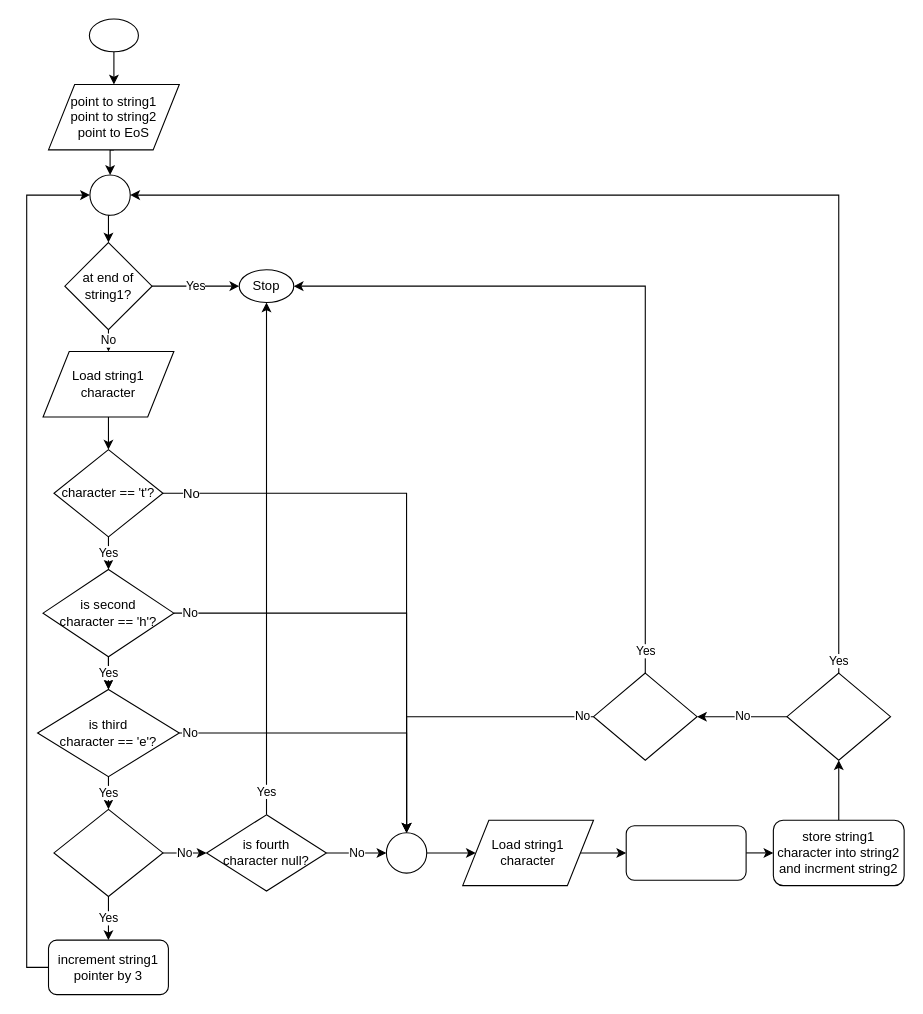
This 923x1014 diagram has some shape labels left out. The shapes that lost their labels are listed below. From the top down, each one's box as (x1, y1, x2, y2) in pixels, then its label:
(88, 18, 138, 52): Start
(592, 672, 697, 760): is character a null?
(786, 672, 891, 760): is character a space?
(53, 808, 163, 897): is fourth character a space?
(625, 825, 746, 880): increment string1 pointer by 1
